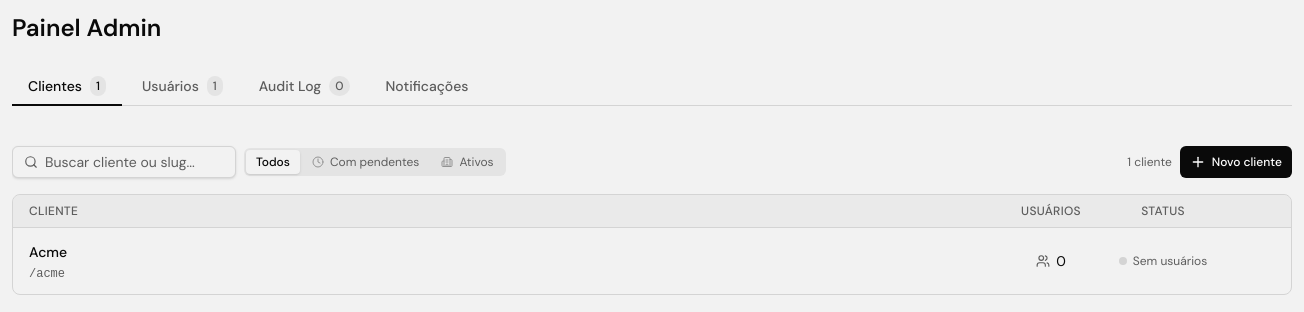
Test: AdminView — navegação de abas › clicar em Usuários exibe o painel de usuários
Click the tab "Usuários 1".
click(182, 87)  # box x1=126 y1=68 x2=239 y2=106
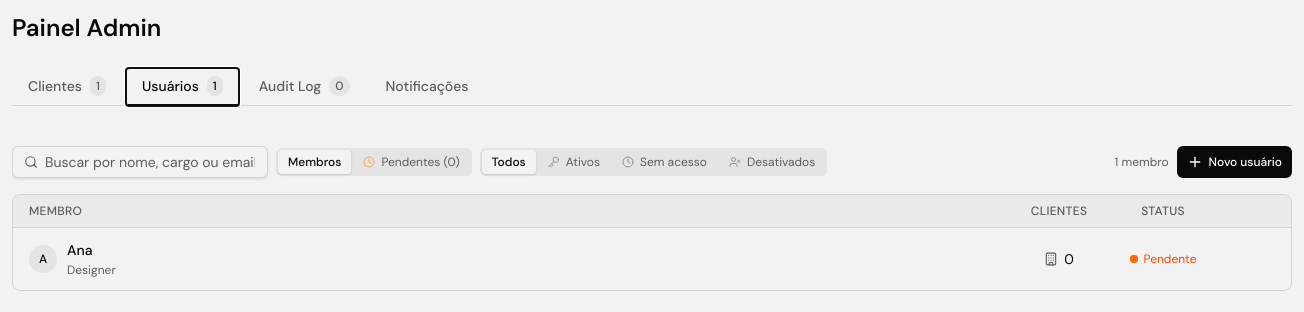
Expected: the panel named "usuários" is shown, x1=12 y1=146 x2=1292 y2=291
